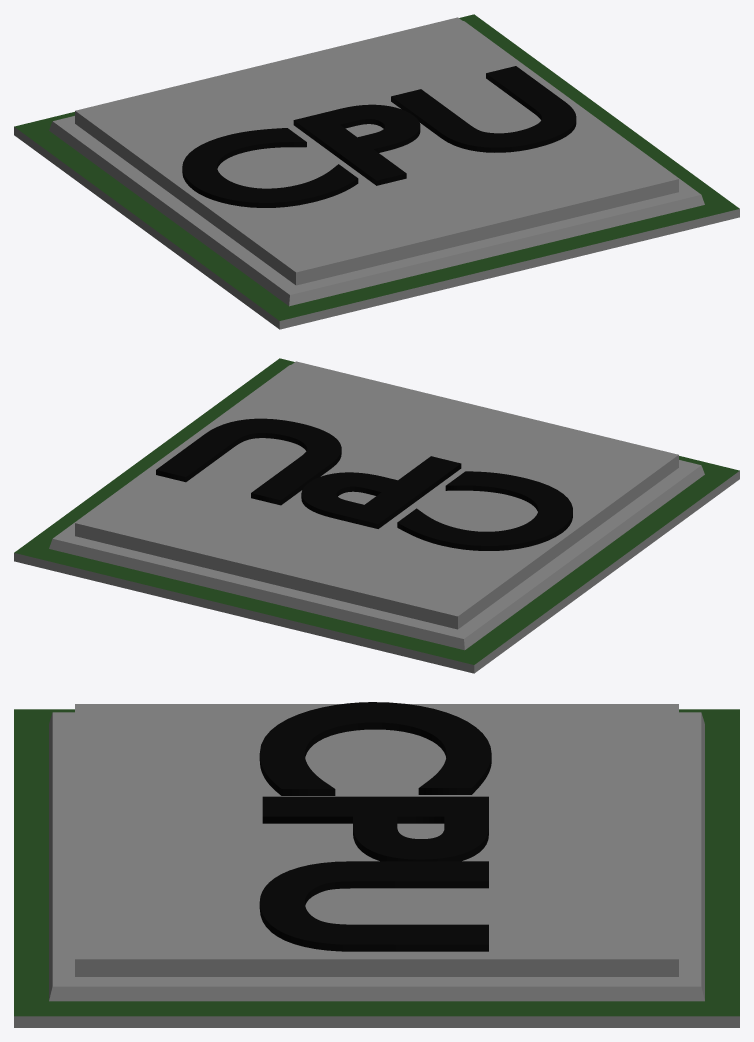
The model's file is cpu.gltf.
3 renders of one model, top to bottom at view 1: azimuth 30°, elevation 25°; view 2: azimuth 150°, elevation 25°; view 3: azimuth 270°, elevation 25°, orthographic. The views are drawn at different scales.
Parts seen in each view (by area): view 1: Cube.001, Text; view 2: Cube.001, Text; view 3: Cube.001, Text.
Part boxes in pixels (x1,y1,x2,y2): Cube.001: (14,14,739,329); Text: (182,66,576,207); Cube.001: (14,358,739,673); Text: (156,418,572,550); Cube.001: (14,704,739,1027); Text: (259,702,491,951).
Size of the model in its own units: 3.25 by 0.2462 by 3.25.
